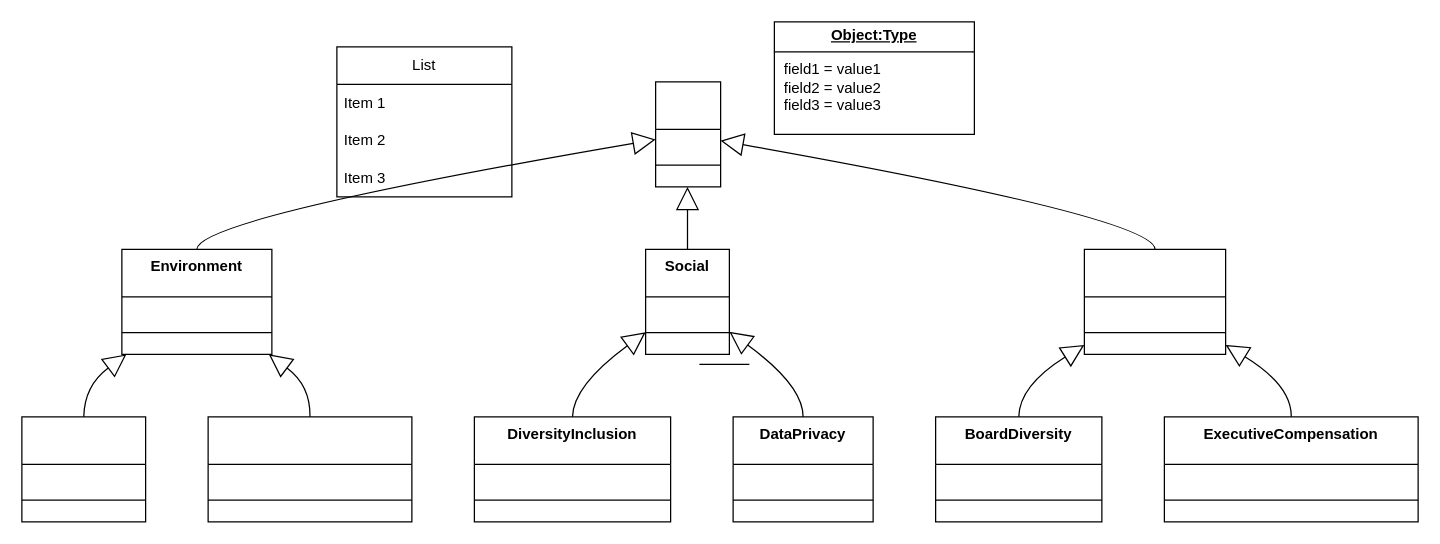
Image size: 1440x544. Some labels were removed from this diagram. Here are the shapes that lost their labels. From the top down, the box of each, then its label:
(654, 81, 721, 187): ESG
(1083, 248, 1226, 354): Governance
(21, 416, 146, 522): AirQuality
(207, 416, 412, 522): WaterManagement
